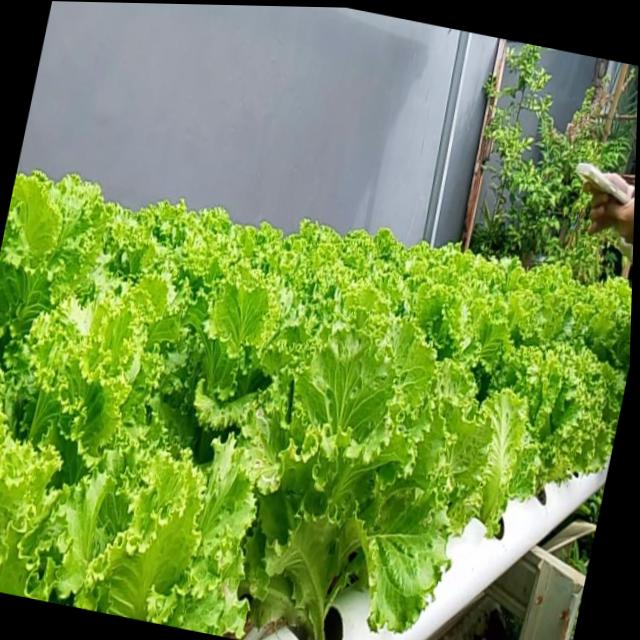Mature: (0, 167, 629, 640), (224, 336, 426, 632), (458, 305, 617, 512)
